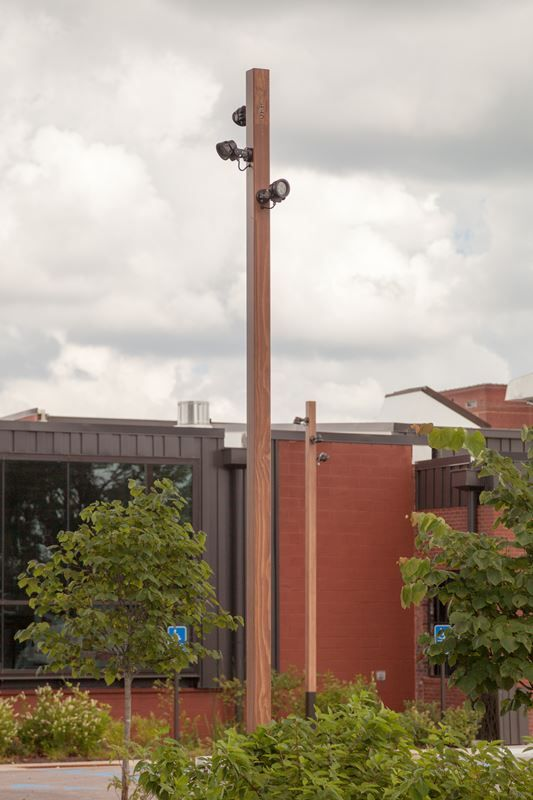light_pole: (233, 59, 287, 750)
